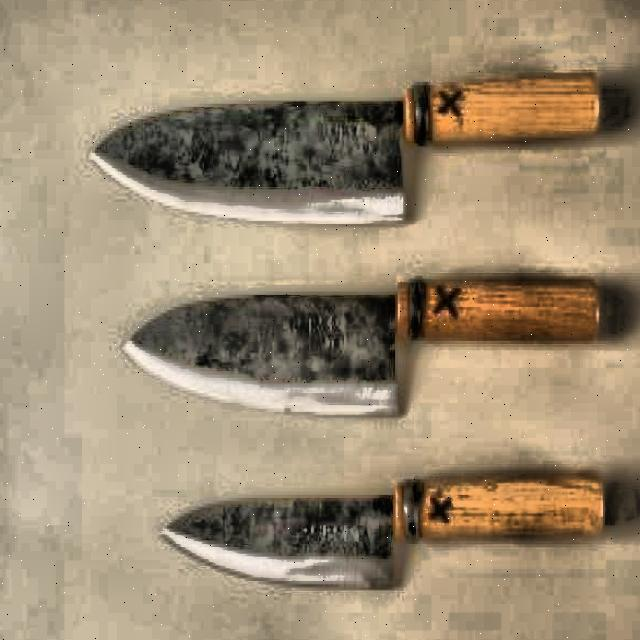knife: (93, 55, 608, 227), (121, 271, 608, 421), (154, 467, 611, 598)
